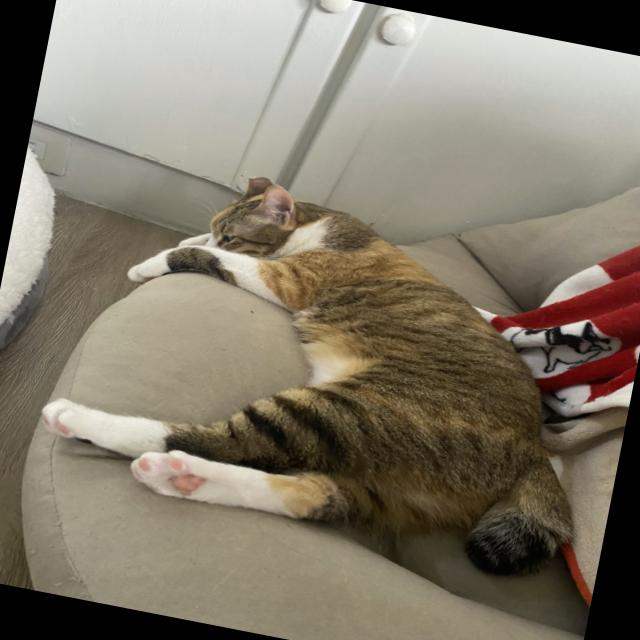cat2: (26, 137, 631, 587)
